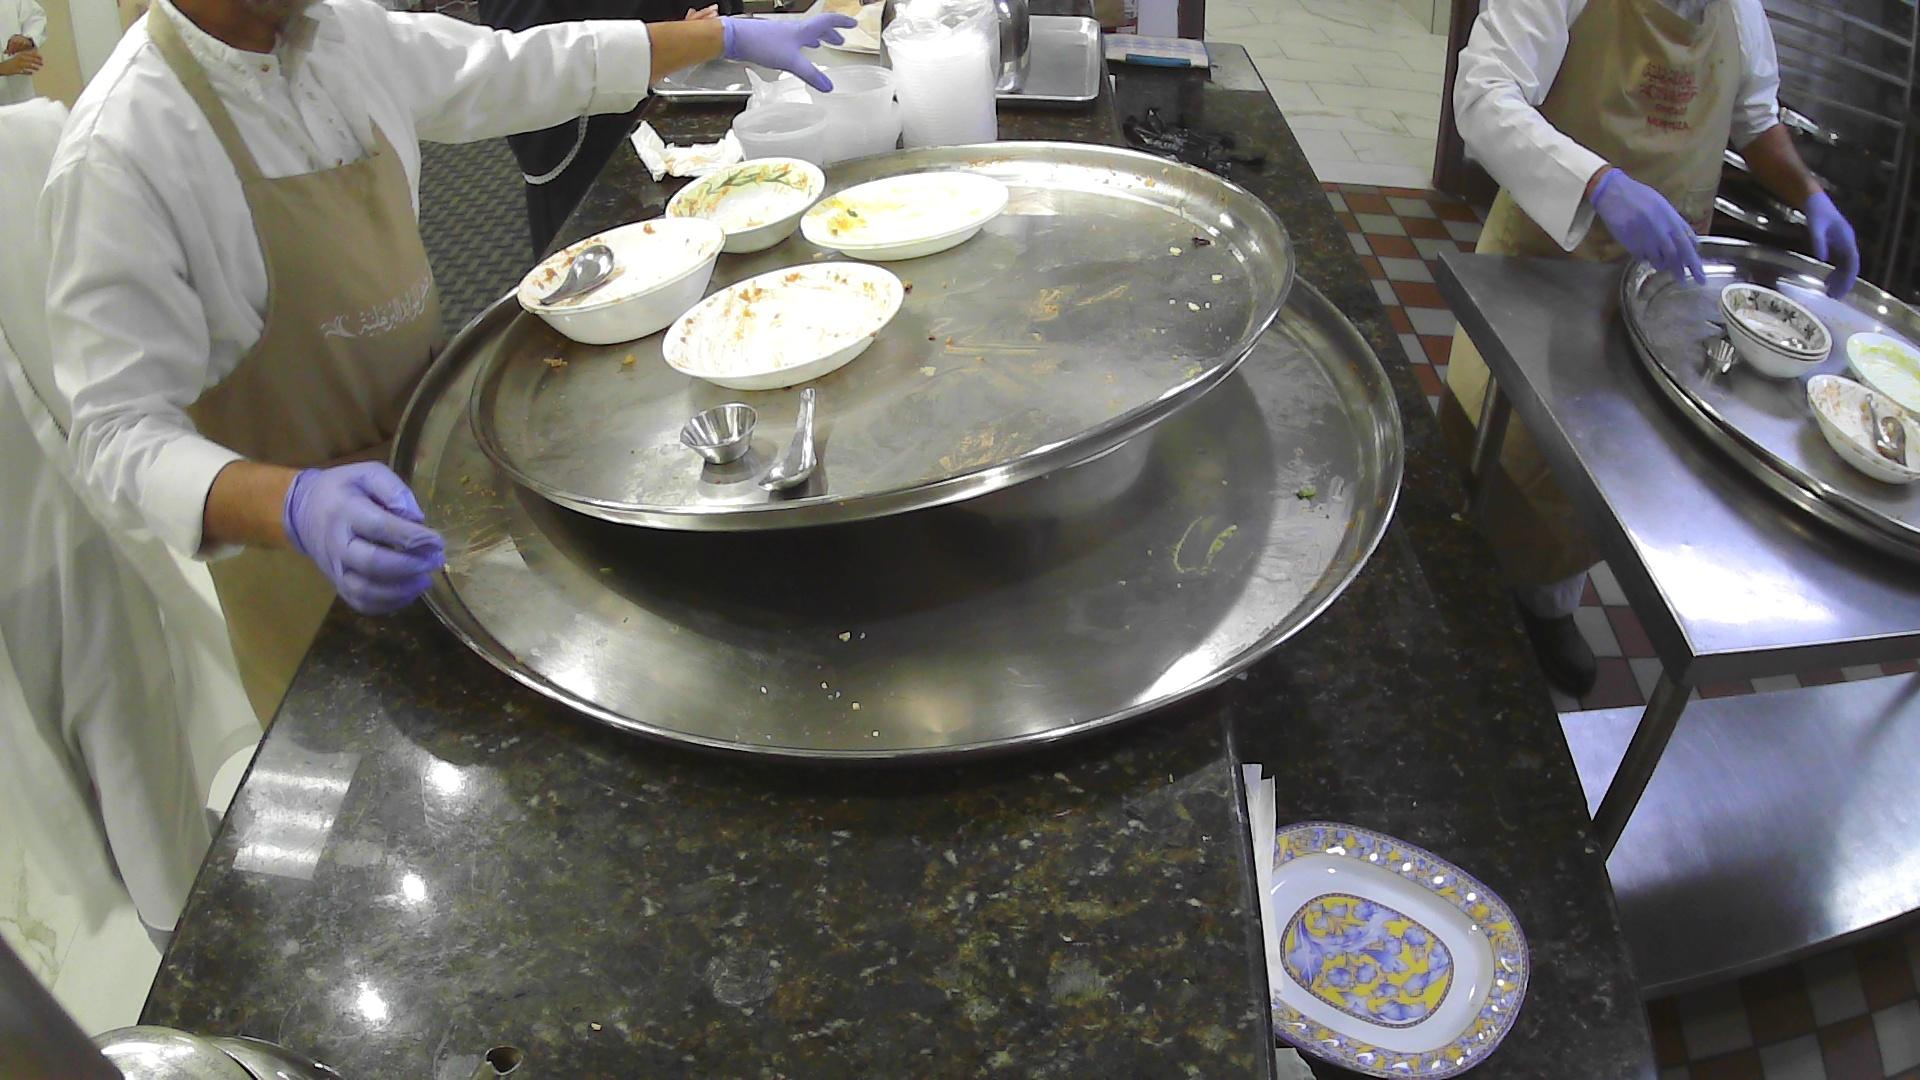thaal: (381, 265, 1407, 774), (465, 137, 1298, 534), (1617, 233, 1920, 572)
